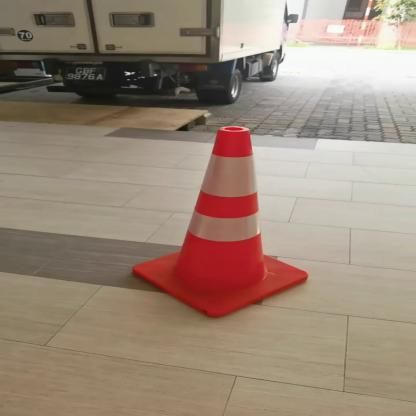cone: (130, 122, 308, 318)
